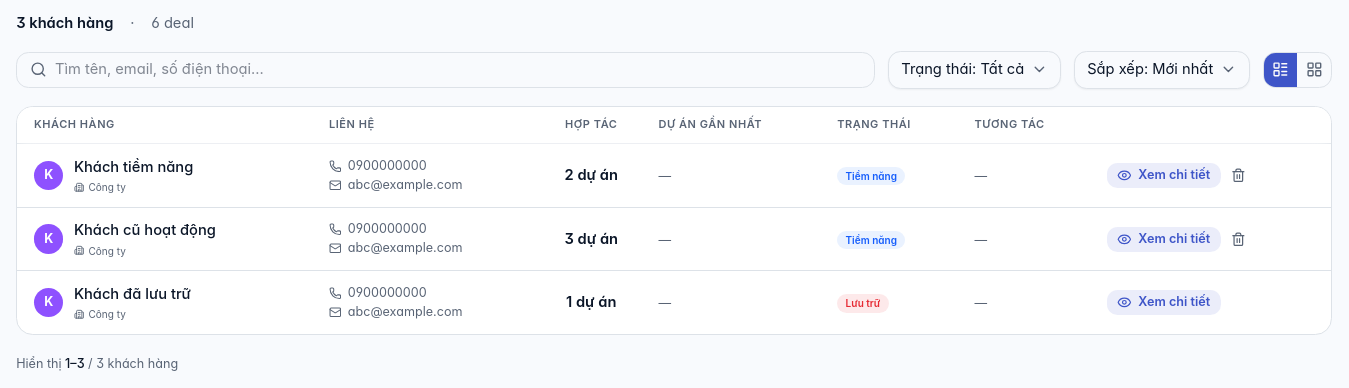
it: <ClientRecords /> — bộ lọc trạng thái › 'Tiềm năng' chỉ hiện khách còn làm việc, ẩn khách đã lưu trữ
What coordinates should you click on to do the following:
click the dropdown labelled "Trạng thái: Tất cả ▼"
I would click on:
 (974, 70)
Its box is [888,51,1061,89].
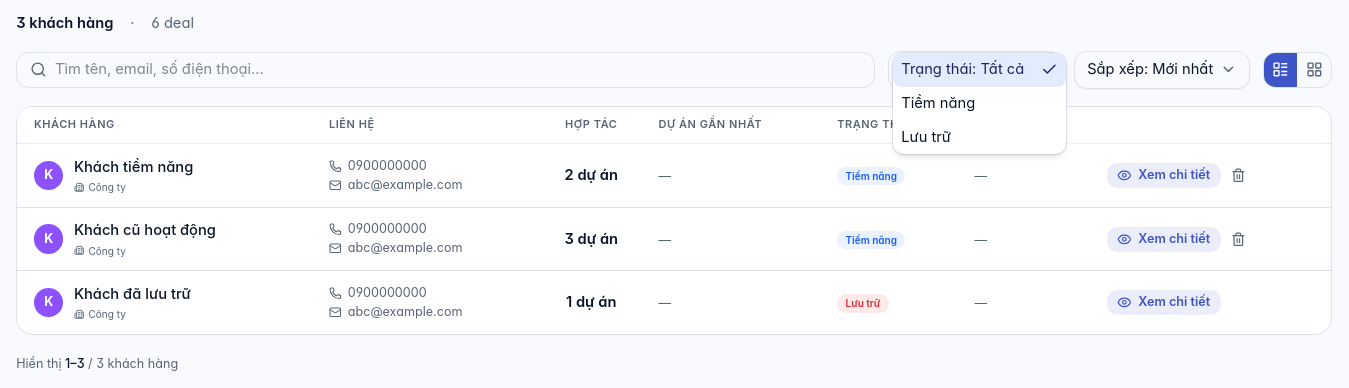
What coordinates should you click on to do the following:
click the option "Tiềm năng"
I would click on:
 (938, 103)
Its box is [901,94,975,112].
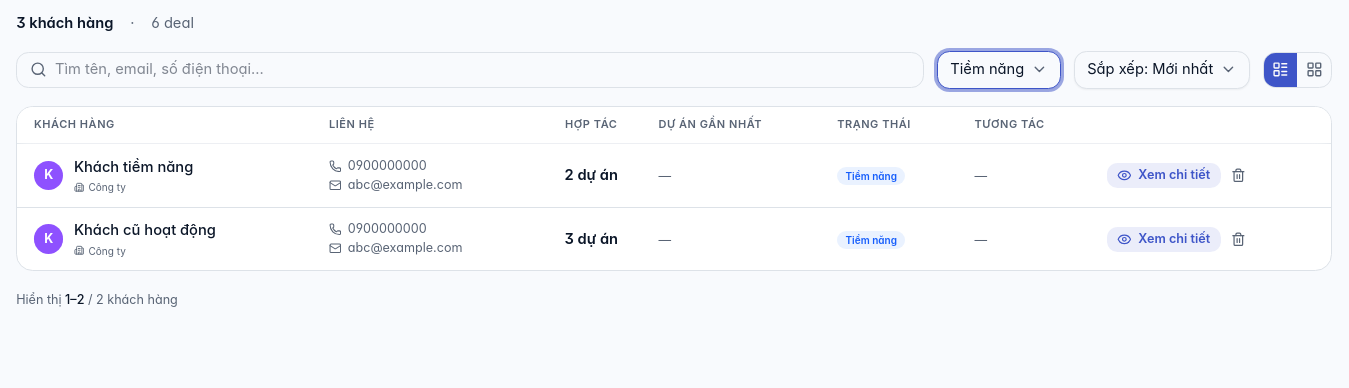
Expected: the text "Khách tiềm năng" is shown, [74,157,193,178]
Now the text "Khách đã lưu trữ" is gone
